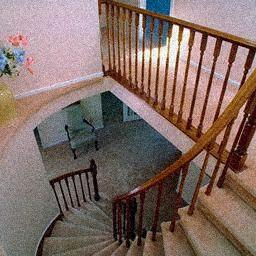Escaleras: (31, 171, 252, 255)
